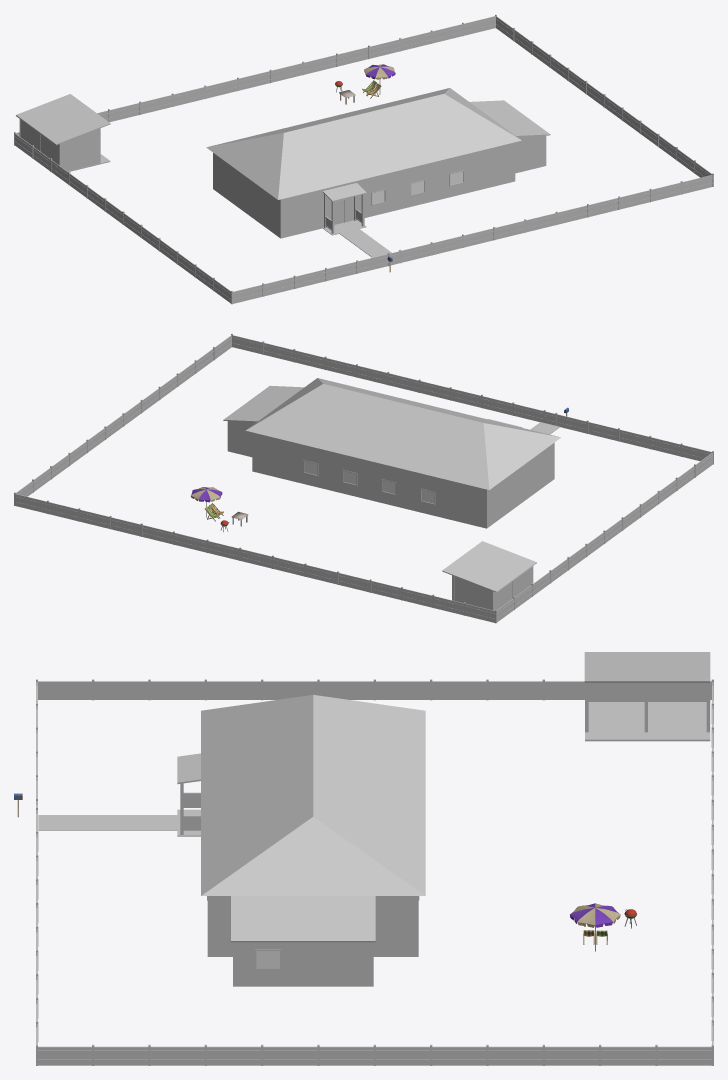
The model's file is HauseHutor04.fbx.
3 views of the same model, one above another, from view 1: azimuth 30°, elevation 25°; view 2: azimuth 150°, elevation 25°; view 3: azimuth 270°, elevation 25° (orthographic). The views are drawn at different scales.
Visible parts, largest first — view 1: Roof, Zabor.001, HauseJ.029, FermHauseС.005, FermHaus.022, Roof.002, Hause, HauseE.010, Tropka, BeachUnbrella1d; view 2: Zabor.001, Roof, HauseJ.029, FermHauseС.005, FermHaus.022, Roof.002, HauseE.010, BeachUnbrella1d; view 3: Roof, Zabor.001, Roof.002, HauseE.010, FermHaus.020, HauseJ.029, FermHauseС.005, FermHaus.022, Tropka, Hause, BeachUnbrella1d, Doors.006.
Boxes of the visible parts, x1,y1,x2,y2 form: Roof: (206, 88, 521, 199); Zabor.001: (14, 14, 713, 304); HauseJ.029: (213, 142, 515, 237); FermHauseС.005: (16, 94, 110, 145); FermHaus.022: (19, 119, 100, 171); Roof.002: (470, 100, 550, 136); Hause: (322, 183, 366, 235); HauseE.010: (515, 135, 546, 172); Tropka: (339, 228, 391, 257); BeachUnbrella1d: (362, 64, 395, 98); Zabor.001: (14, 333, 713, 623); Roof: (246, 378, 560, 489); HauseJ.029: (252, 432, 554, 527); FermHauseС.005: (442, 541, 536, 592); FermHaus.022: (452, 566, 533, 610); Roof.002: (223, 385, 303, 422); HauseE.010: (227, 421, 256, 456); BeachUnbrella1d: (191, 487, 223, 521); Roof: (201, 694, 425, 895); Zabor.001: (36, 679, 713, 1065); Roof.002: (231, 896, 375, 942); HauseE.010: (233, 942, 373, 985); FermHaus.020: (585, 702, 710, 741); HauseJ.029: (207, 896, 419, 955); FermHauseС.005: (584, 652, 710, 682); FermHaus.022: (585, 682, 710, 732); Tropka: (38, 815, 177, 830); Hause: (177, 753, 200, 836); BeachUnbrella1d: (570, 903, 620, 951); Doors.006: (329, 950, 347, 985).
Bounding box in the file's own units: 4935 × 721 × 3983.
